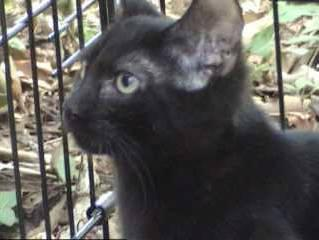cat: (64, 0, 318, 239)
